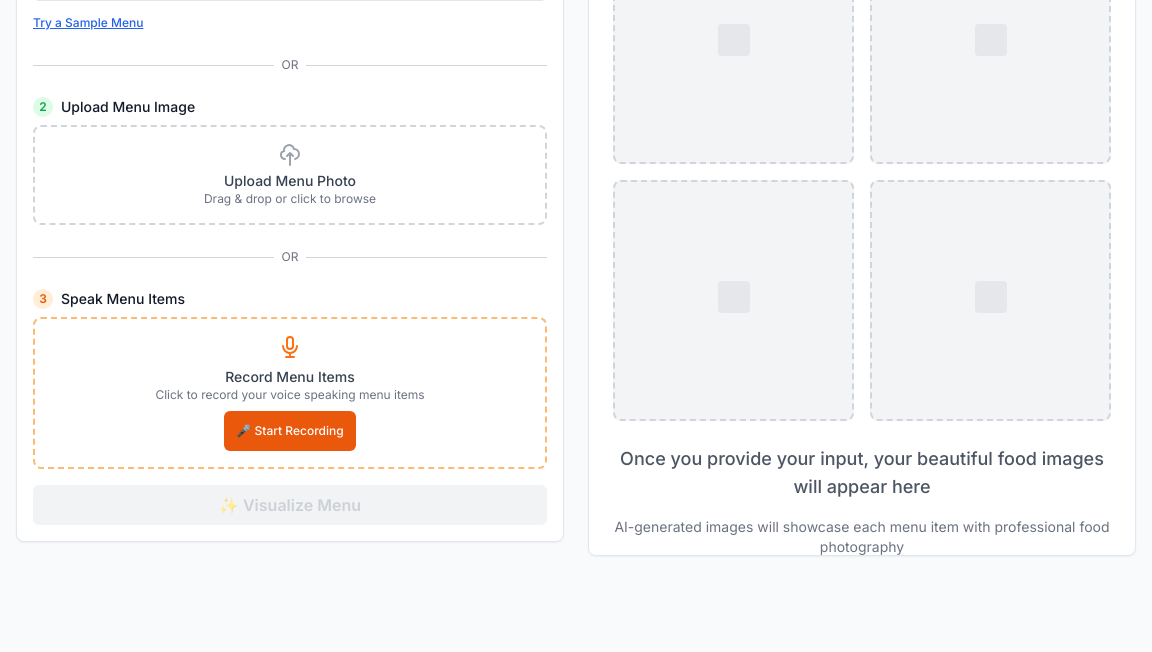
Home Component › handles speech recognition results
This screenshot has width=1152, height=652.
(page scrolled)
What coordinates should you click on to do the following:
click the button "🎤 Start Recording"
I would click on:
 (290, 431)
Its box is [224, 411, 356, 451].
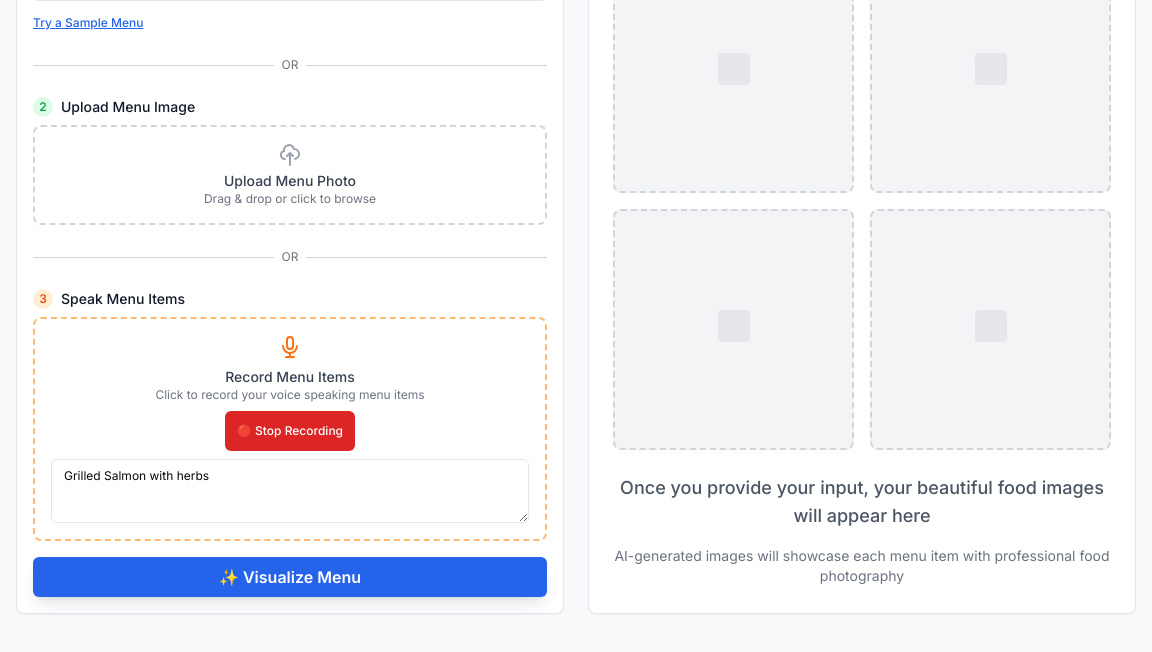
Now the text box showing "Grilled Salmon with herbs" is shown, box [51, 459, 529, 523]
